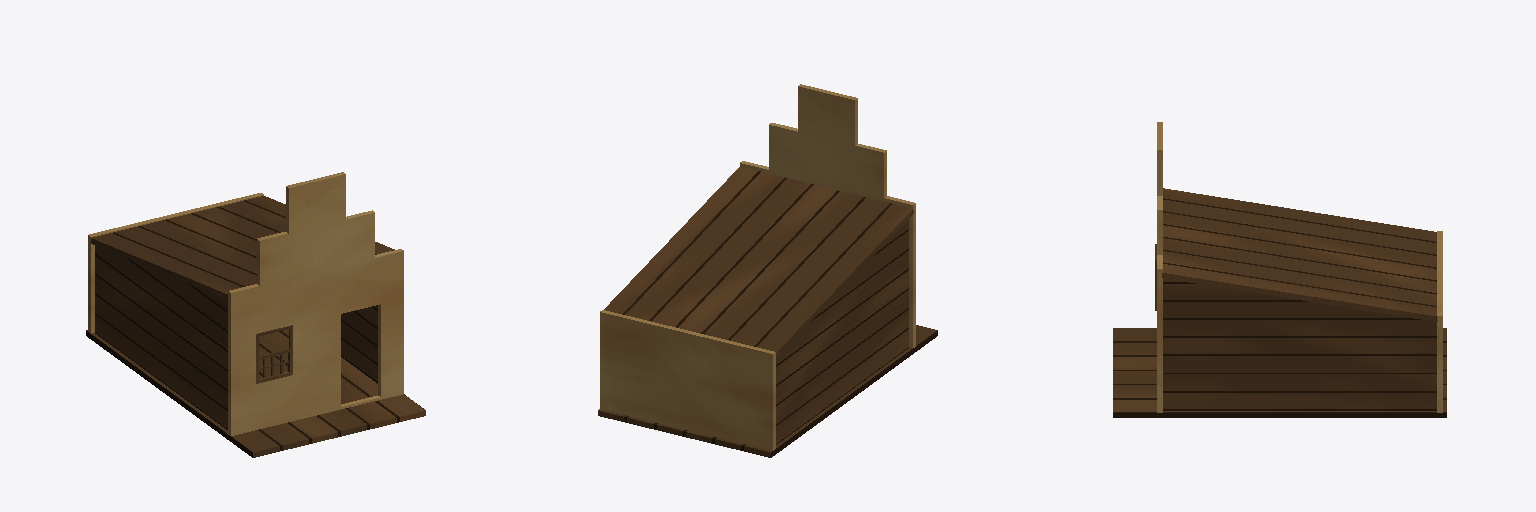
The picture shows the model from 3 angles: view 1: azimuth 30°, elevation 25°; view 2: azimuth 150°, elevation 25°; view 3: azimuth 270°, elevation 25°; orthographic projection.
Parts seen in each view (by area): view 1: Cube.001_Cube.004, Cube.005_Cube.007, Cube.003_Cube.005, Cube_Cube.001, Cube.004_Cube.006, Cube.002_Cube.003, Cube.006_Cube.008; view 2: Cube.003_Cube.005, Cube.002_Cube.003, Cube.005_Cube.007, Cube.001_Cube.004, Cube_Cube.001; view 3: Cube.004_Cube.006, Cube.003_Cube.005, Cube_Cube.001, Cube.001_Cube.004, Cube.002_Cube.003.
Part boxes in pixels (bbox=[...]): Cube.001_Cube.004: bbox=[228, 172, 403, 435]; Cube.005_Cube.007: bbox=[95, 245, 227, 429]; Cube.003_Cube.005: bbox=[91, 196, 394, 299]; Cube_Cube.001: bbox=[86, 329, 425, 457]; Cube.004_Cube.006: bbox=[341, 305, 377, 383]; Cube.002_Cube.003: bbox=[88, 193, 263, 333]; Cube.006_Cube.008: bbox=[256, 325, 292, 383]; Cube.003_Cube.005: bbox=[604, 167, 913, 357]; Cube.002_Cube.003: bbox=[600, 310, 775, 450]; Cube.005_Cube.007: bbox=[776, 219, 908, 444]; Cube.001_Cube.004: bbox=[740, 84, 915, 347]; Cube_Cube.001: bbox=[598, 325, 937, 457]; Cube.004_Cube.006: bbox=[1163, 278, 1436, 410]; Cube.003_Cube.005: bbox=[1162, 188, 1437, 321]; Cube_Cube.001: bbox=[1113, 328, 1446, 417]; Cube.001_Cube.004: bbox=[1157, 122, 1162, 412]; Cube.002_Cube.003: bbox=[1437, 231, 1442, 412].
Bounding box in the file's own units: 2 × 2.64 × 3.34.
1 materials, 1 textured.